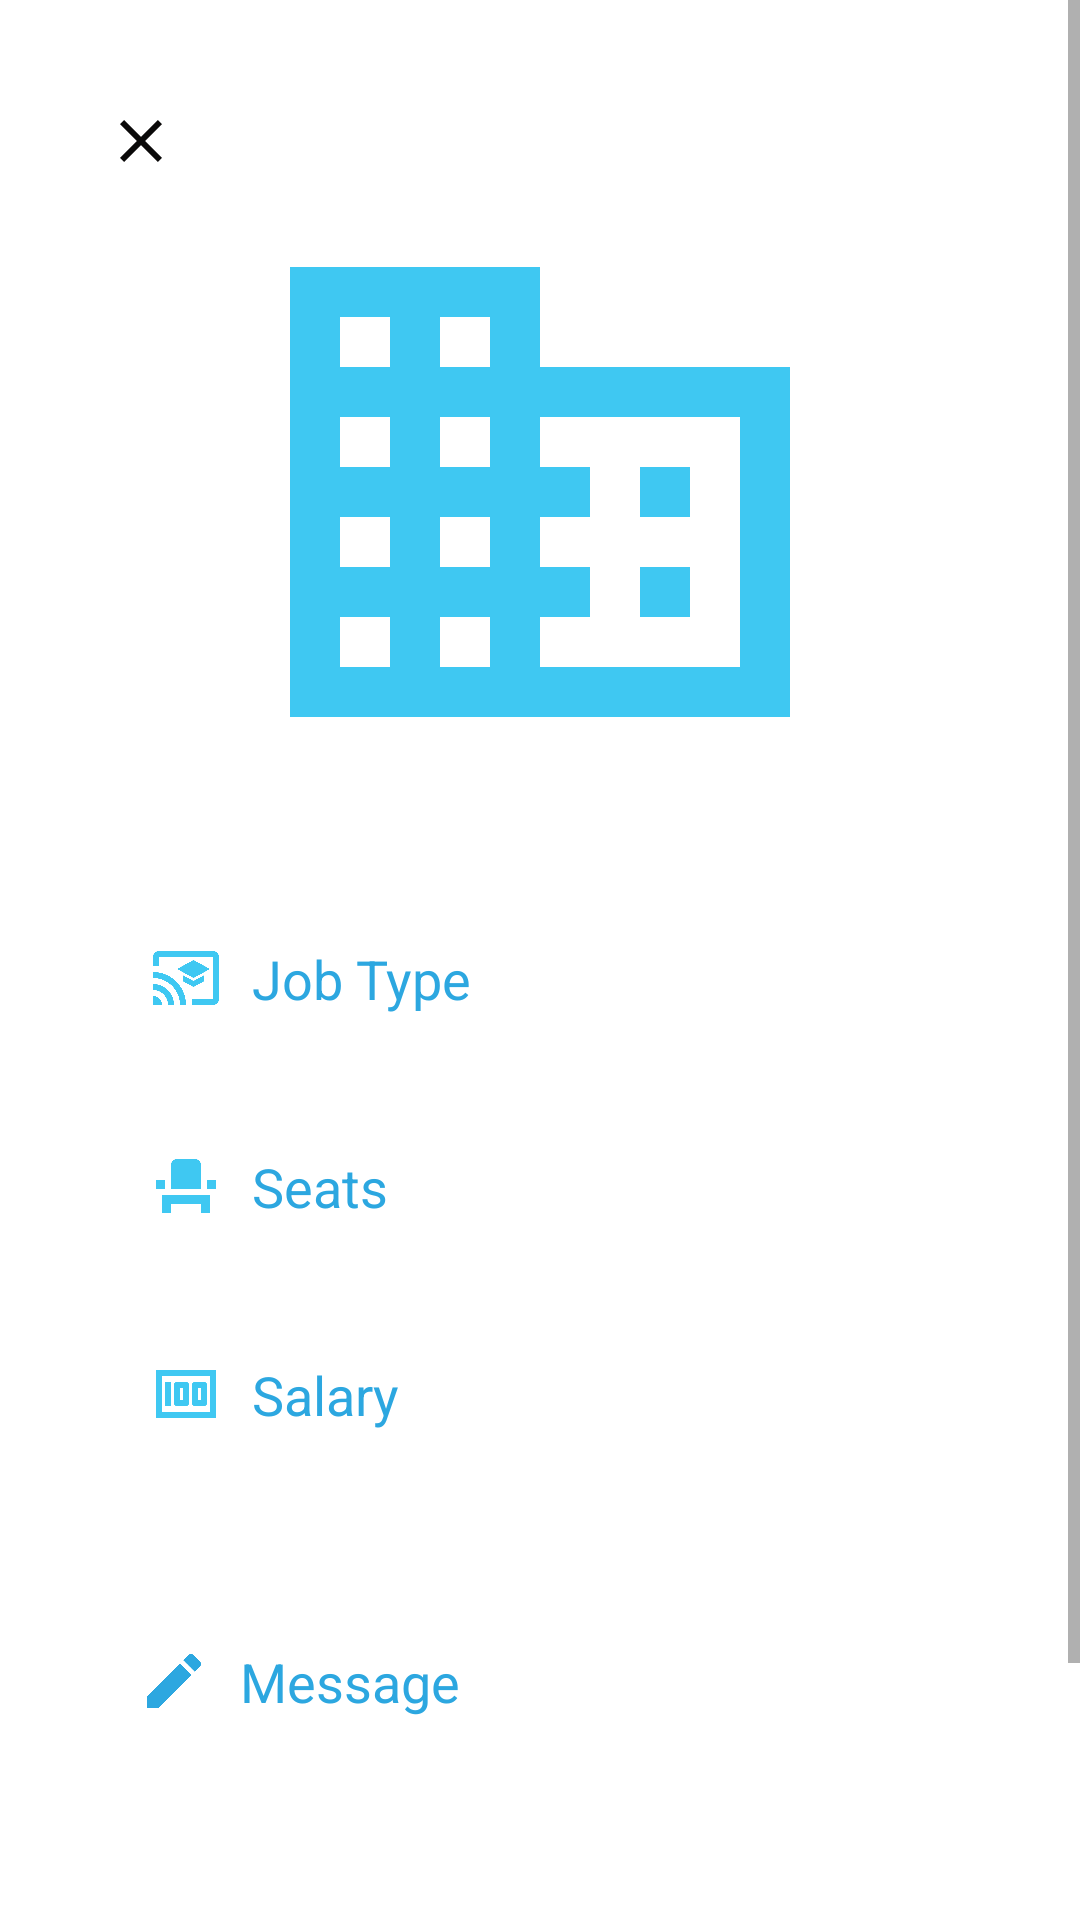

Locate icon controls on the screen. Image size 1080 x 1920, boxes as (x1, y1, x2, y2).
close: (120, 120, 162, 162)
